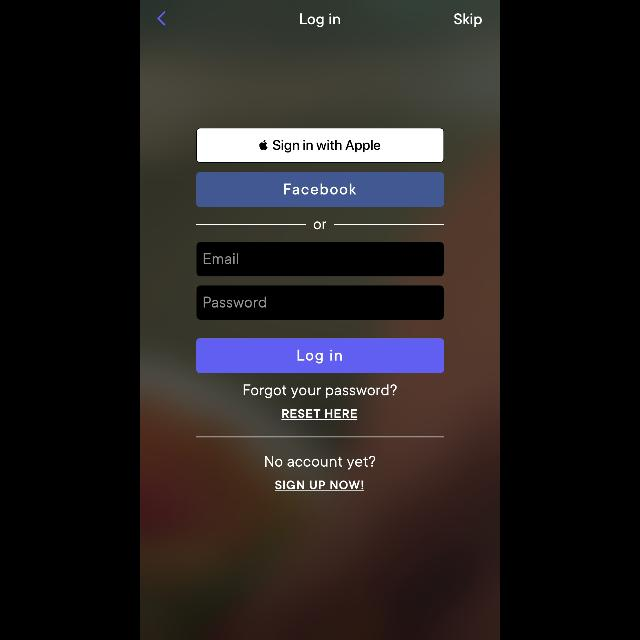icon: (158, 12, 166, 26)
input: (196, 286, 444, 320), (196, 242, 444, 276)
text: (244, 384, 396, 398), (265, 456, 375, 470), (274, 481, 364, 492), (282, 410, 358, 420), (204, 296, 266, 308), (300, 14, 340, 28), (454, 14, 482, 28), (204, 253, 238, 264), (314, 222, 326, 230)
textbutton: (196, 338, 444, 374), (196, 172, 444, 208), (196, 129, 444, 163)
